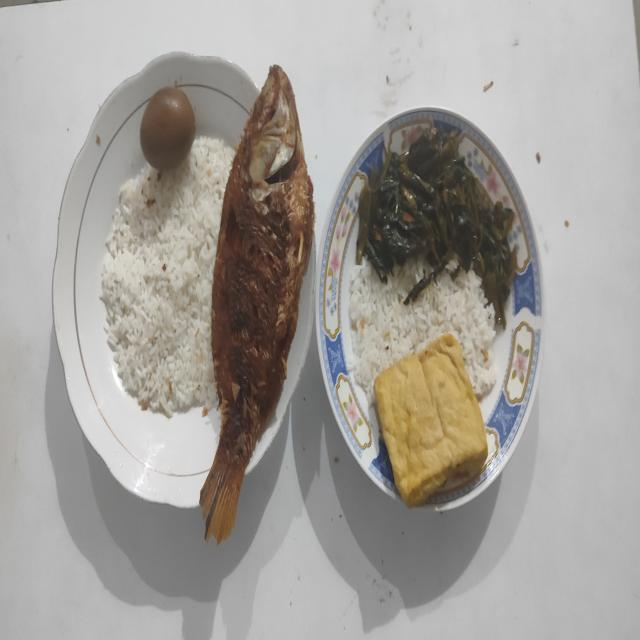ikan_mujair: (200, 65, 314, 543)
nasi_putih: (100, 140, 237, 418), (349, 256, 496, 399)
tahu_goreng: (374, 334, 488, 506)
tumis_kangkung: (356, 126, 516, 328)
